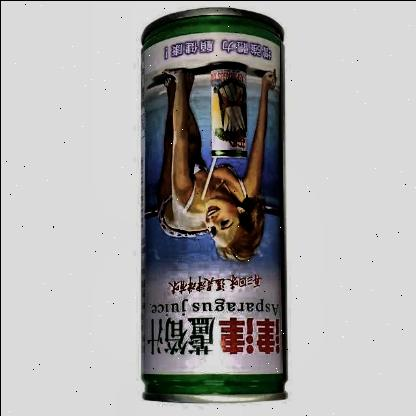Can: (130, 0, 292, 416)
